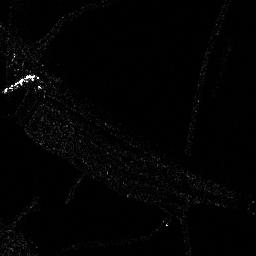ship: (2, 73, 37, 94)
